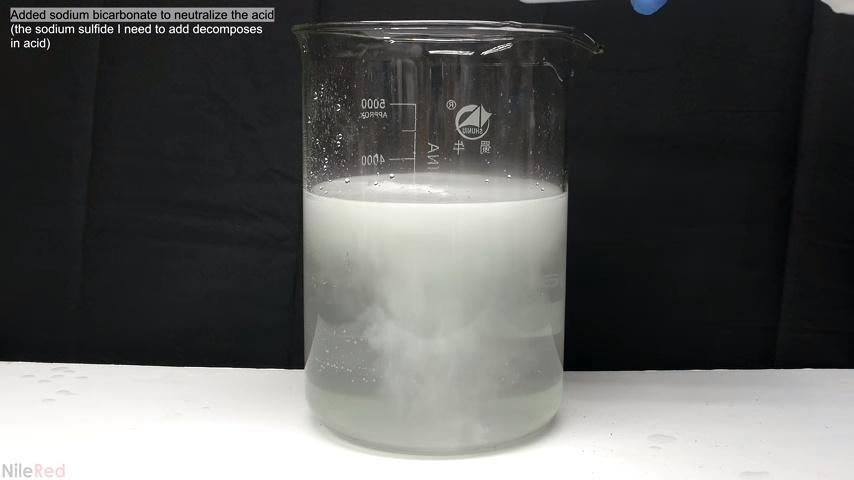Beaker: (288, 19, 591, 450)
